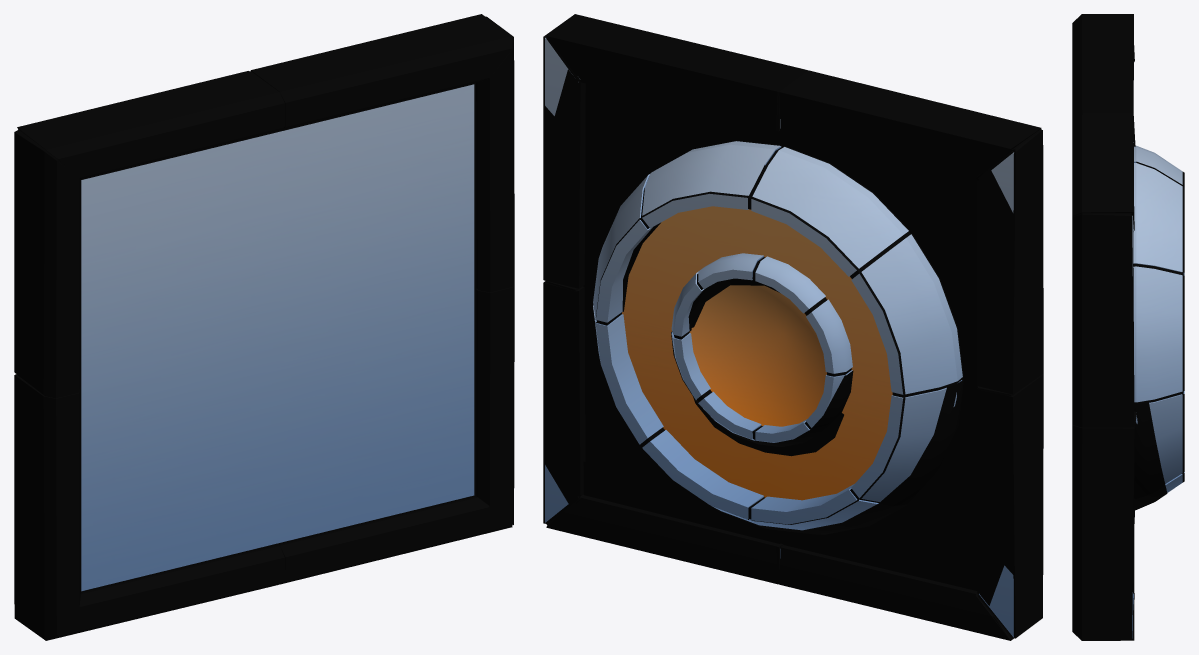
File: Rooms_Paradise_SciFi_NFTFrame_Art.fbx
3 views of the same model, side by side, from view 1: azimuth 30°, elevation 25°; view 2: azimuth 150°, elevation 25°; view 3: azimuth 270°, elevation 25° (orthographic). The views are drawn at different scales.
Visible parts, largest first — view 1: Rooms_Paradise_SciFi_NFTFrame_Art, Rooms_Paradise_SciFi_NFTFrame_Back, Rooms_Paradise_SciFi_NFTFrame_Shadows; view 2: Rooms_Paradise_SciFi_NFTFrame_Back, Rooms_Paradise_SciFi_NFTFrame_Shadows, Rooms_Paradise_SciFi_NFTFrame_Art; view 3: Rooms_Paradise_SciFi_NFTFrame_Back, Rooms_Paradise_SciFi_NFTFrame_Shadows.
Boxes of the visible parts, bbox=[...] form: Rooms_Paradise_SciFi_NFTFrame_Art: bbox=[17, 83, 477, 592]; Rooms_Paradise_SciFi_NFTFrame_Back: bbox=[14, 14, 514, 640]; Rooms_Paradise_SciFi_NFTFrame_Shadows: bbox=[58, 78, 510, 635]; Rooms_Paradise_SciFi_NFTFrame_Back: bbox=[543, 14, 1043, 640]; Rooms_Paradise_SciFi_NFTFrame_Shadows: bbox=[546, 62, 1010, 640]; Rooms_Paradise_SciFi_NFTFrame_Art: bbox=[545, 38, 1016, 637]; Rooms_Paradise_SciFi_NFTFrame_Back: bbox=[1072, 14, 1184, 640]; Rooms_Paradise_SciFi_NFTFrame_Shadows: bbox=[1133, 402, 1167, 635].
Bounding box in the file's own units: 236 × 235 × 55.7.
